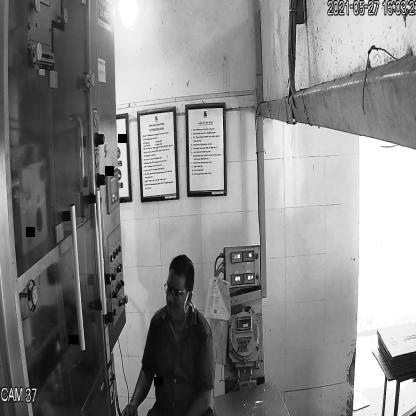goggles: (162, 276, 194, 302)
